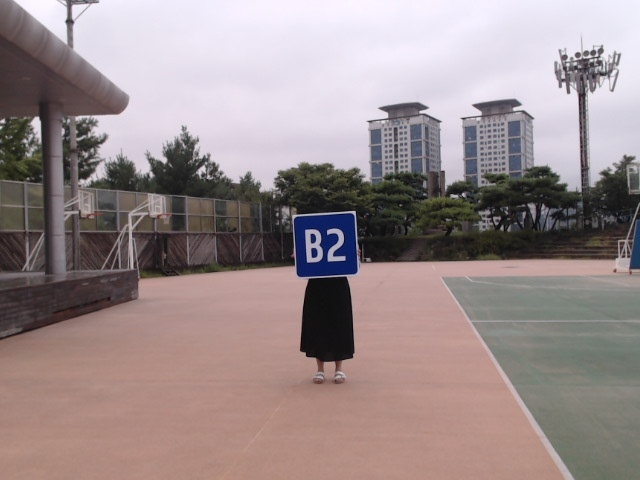delivery_b2: (294, 210, 359, 278)
